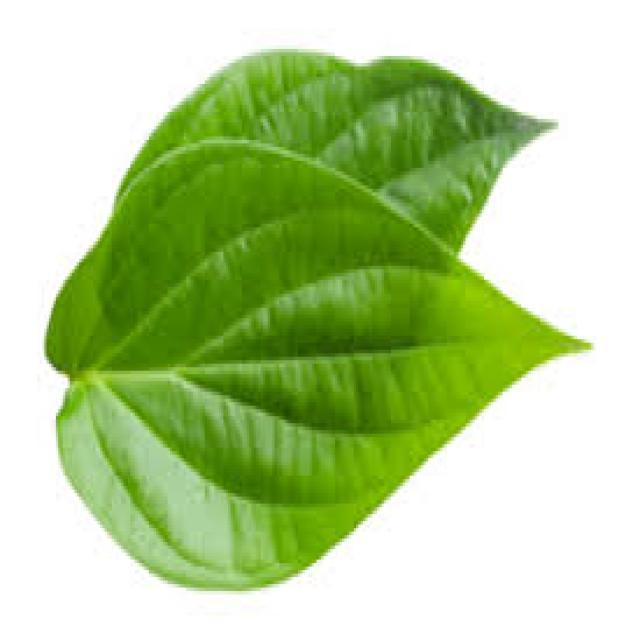leaf: (44, 47, 593, 591)
